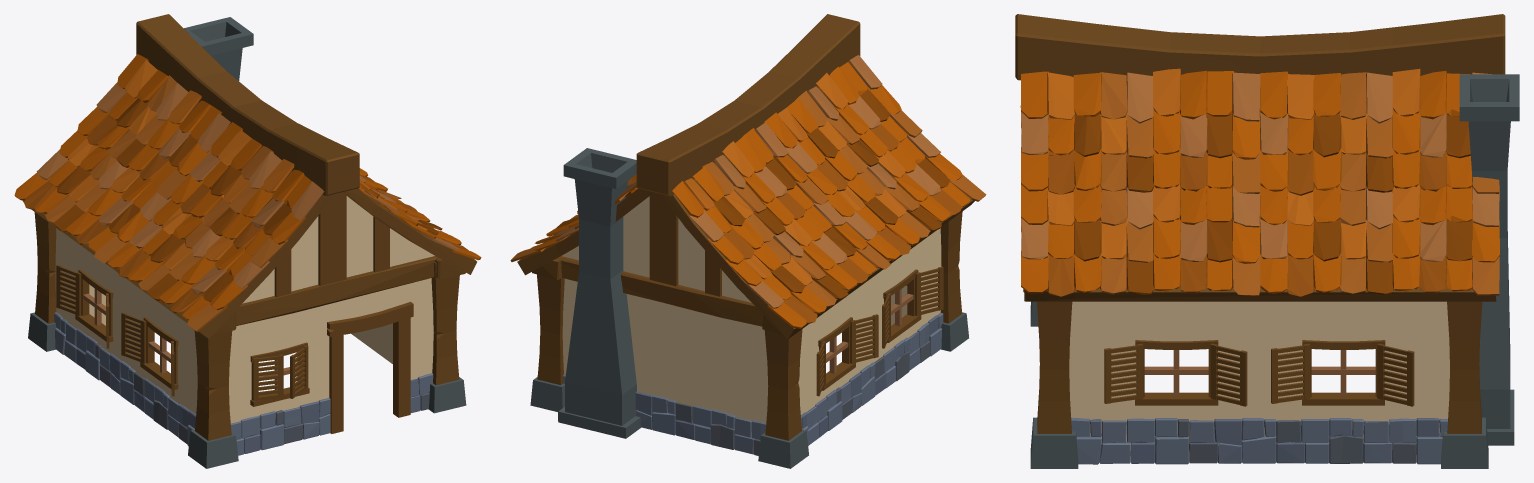
Rendered from House_07.fbx.
The picture shows the model from 3 angles, left to right: view 1: azimuth 30°, elevation 25°; view 2: azimuth 150°, elevation 25°; view 3: azimuth 270°, elevation 25°; orthographic projection. The views are drawn at different scales.
Parts seen in each view (by area): view 1: House_07; view 2: House_07; view 3: House_07.
Part boxes in pixels (left/top/right/bottom): House_07: left=14, top=14, right=481, bottom=468; House_07: left=510, top=14, right=986, bottom=468; House_07: left=1015, top=14, right=1519, bottom=468.
Bounding box in the file's own units: 587 × 547 × 684.
